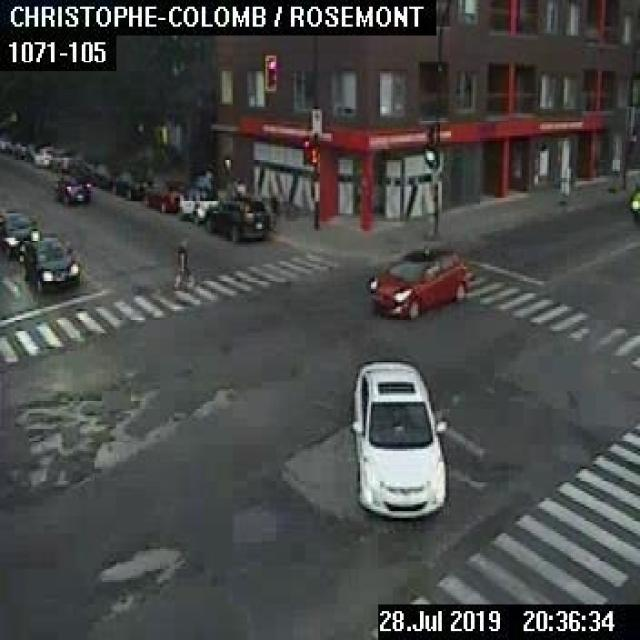pedestrian: (172, 237, 189, 287)
vehicle: (350, 362, 444, 518), (368, 246, 466, 318), (24, 230, 79, 293), (204, 195, 268, 238), (0, 209, 38, 253), (177, 186, 217, 222), (143, 178, 184, 209), (53, 174, 89, 207), (112, 171, 148, 197), (90, 163, 118, 186), (51, 149, 72, 169), (629, 182, 638, 222), (34, 145, 52, 164)
